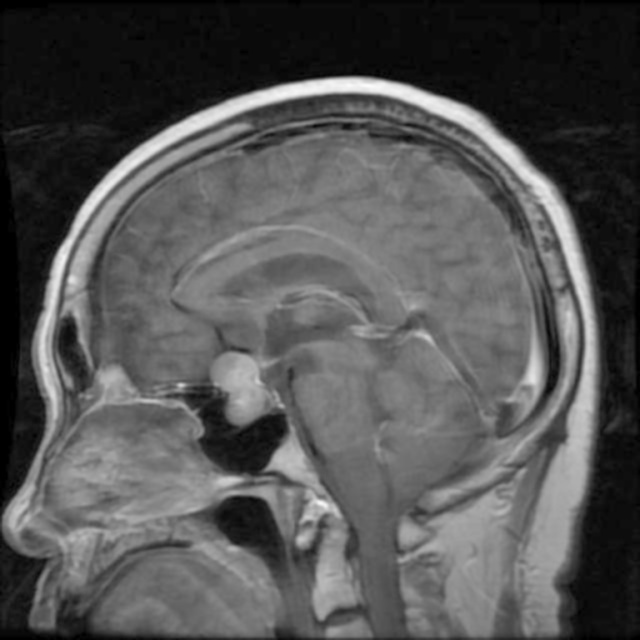no tumor: (208, 351, 278, 424)
